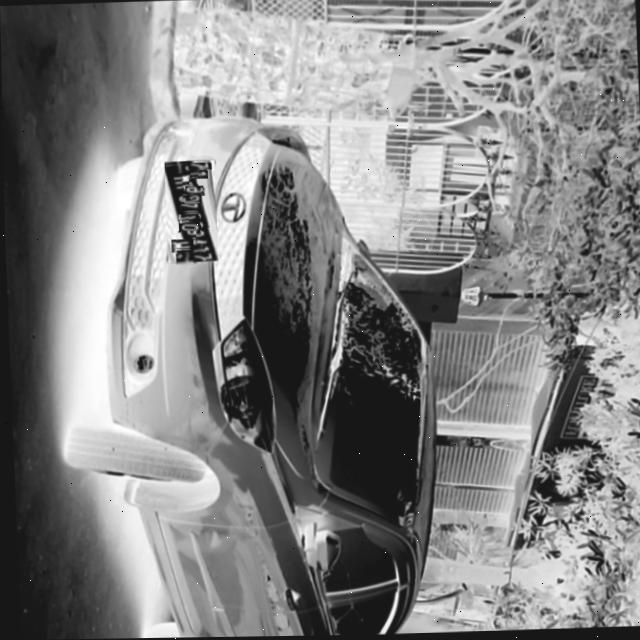0: (175, 223, 197, 232)
1: (188, 170, 205, 178)
4: (186, 179, 202, 184)
7: (175, 214, 196, 222), (186, 163, 208, 169)
9: (183, 186, 201, 194)
C: (179, 204, 200, 212)
G: (180, 194, 199, 202)
IND: (173, 250, 191, 265)
Indian_registered: (163, 162, 215, 262)
M: (169, 239, 191, 250)
P: (172, 231, 194, 240)
